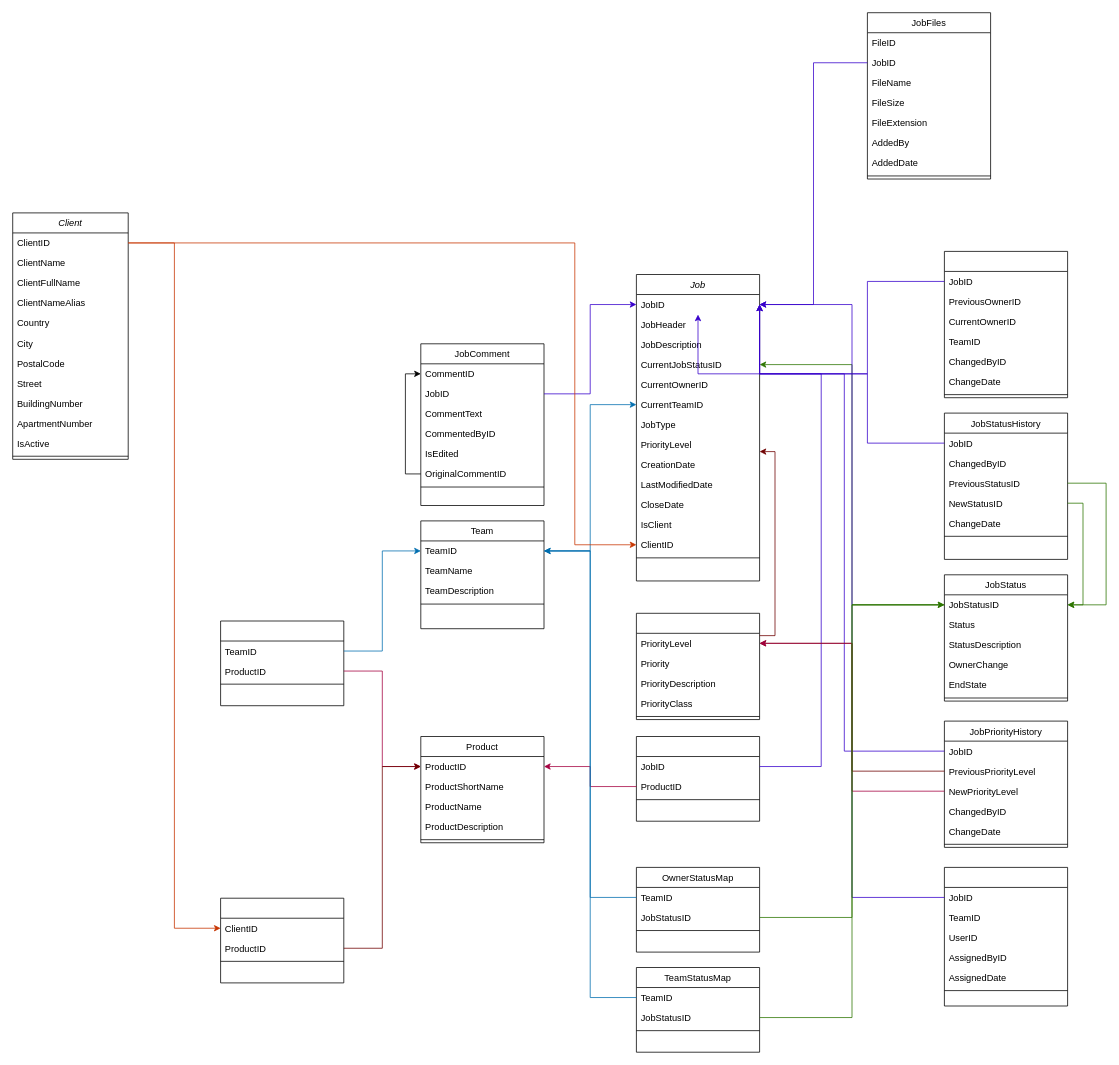
Some shapes in this 1119 by 1065 pixel diagram are drawn without their labels. The box of each missing label's shape, as (x1, y1, x2, y2) in pixels:
ClientProductLink: (220, 897, 344, 983)
JobAssignment: (944, 867, 1068, 1006)
JobAssignmentHistory: (944, 251, 1068, 398)
JobPriority: (636, 613, 760, 720)
JobProductLink: (636, 736, 760, 821)
TeamProductLink: (220, 620, 344, 706)
